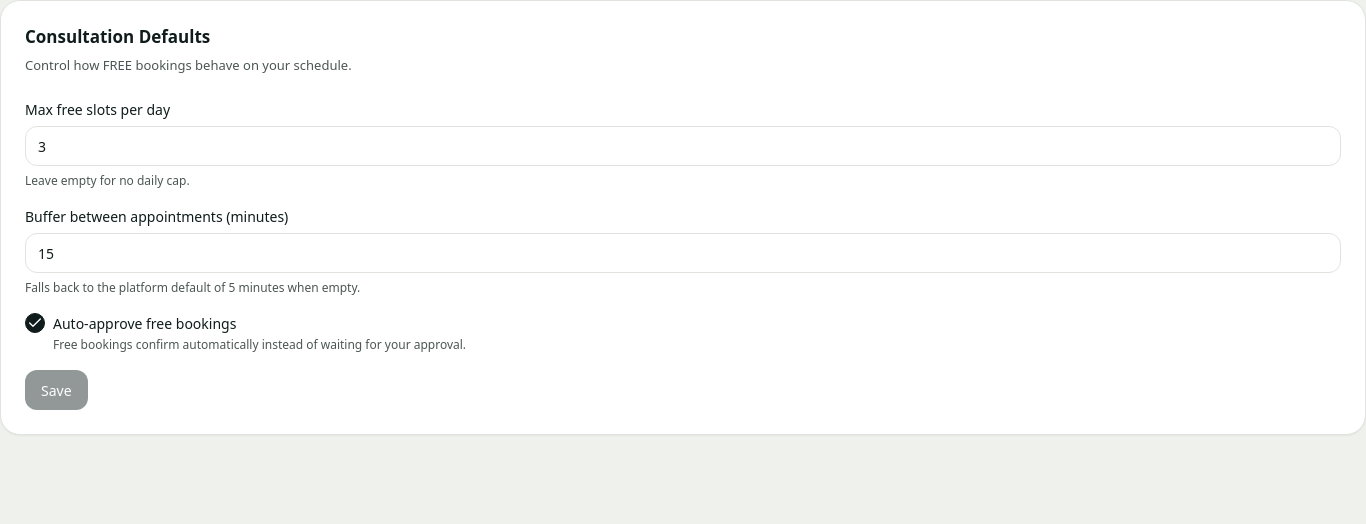
ConsultationDefaultsForm › shows an inline error alert when the save fails
The width and height of the screenshot is (1366, 524).
Replace the text in the number field labelled "Max free slots per day" with "5". click: (683, 146)
box: [25,126,1341,166]
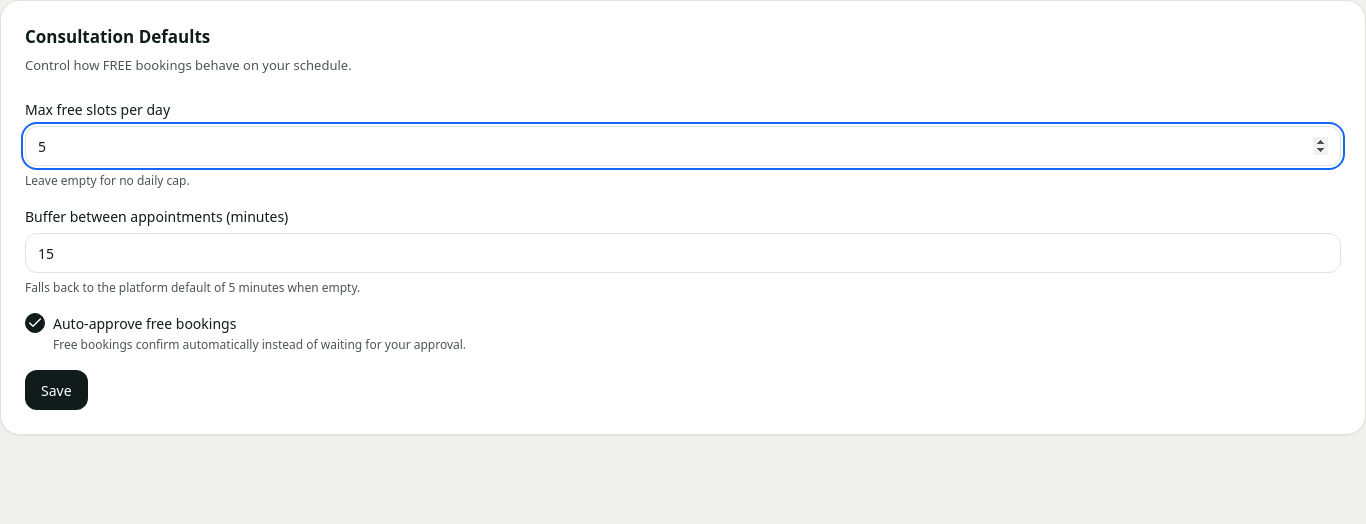
Click the button "Save". click: (56, 390)
box: [25,370,88,410]
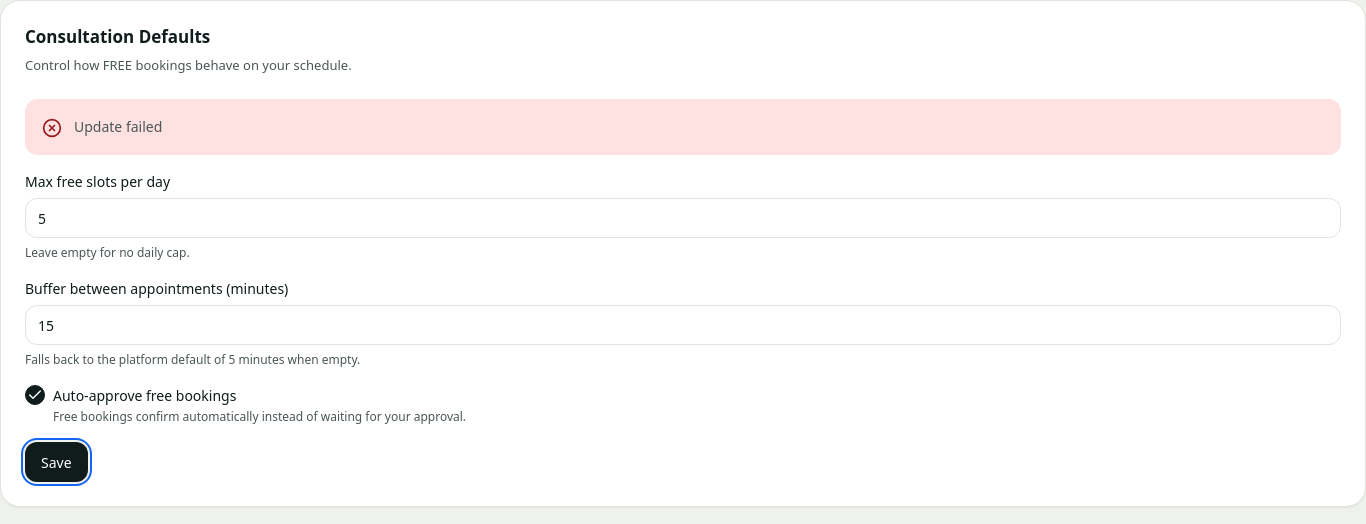
expect the message reads "Update failed": met, box [74,117,162,136]
